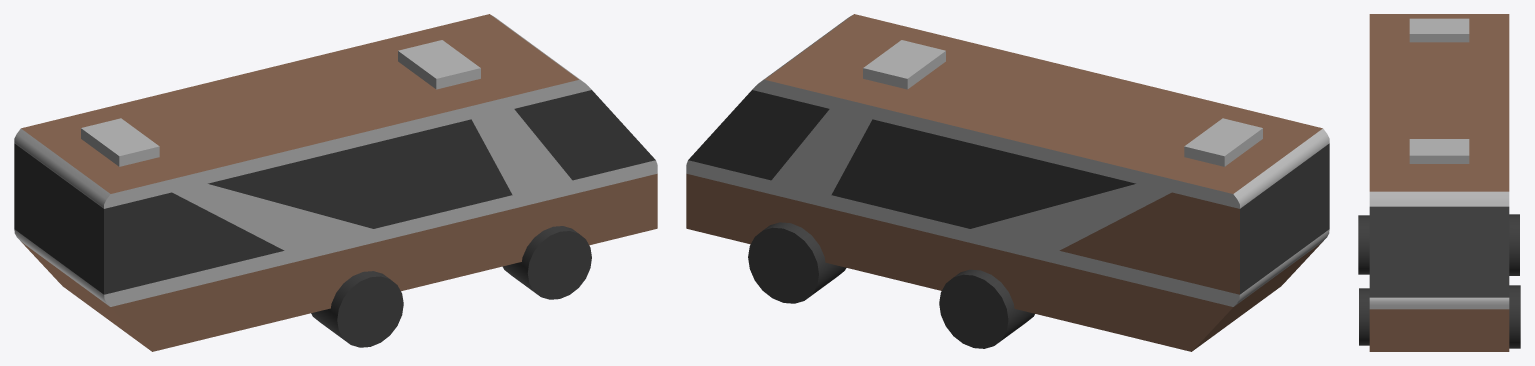
3 renders of one model, left to right at view 1: azimuth 30°, elevation 25°; view 2: azimuth 150°, elevation 25°; view 3: azimuth 270°, elevation 25°, orthographic. The views are drawn at different scales.
Parts seen in each view (by area): view 1: pCylinder5; view 2: pCylinder5; view 3: pCylinder5.
Part boxes in pixels (x1,y1,x2,y2): pCylinder5: (14, 14, 657, 351); pCylinder5: (686, 14, 1329, 351); pCylinder5: (1358, 14, 1520, 351).
Bounding box in the file's own units: 11.59 × 4.44 × 3.79.
